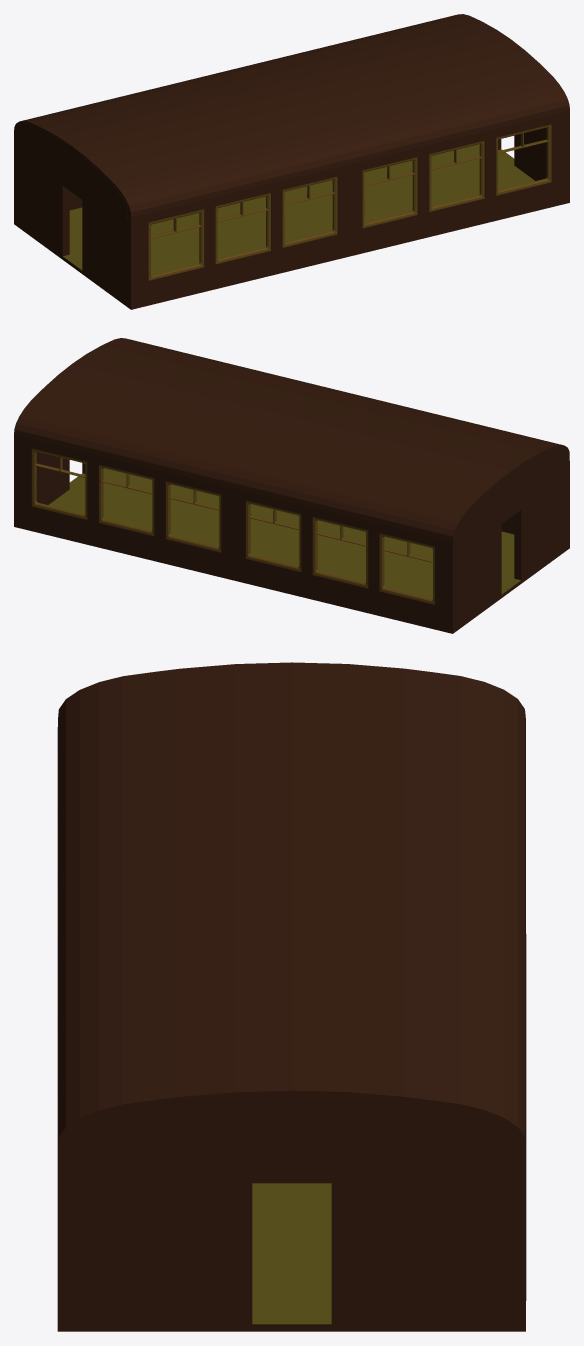
The model's file is Carriage.fbx.
3 renders of one model, top to bottom at view 1: azimuth 30°, elevation 25°; view 2: azimuth 150°, elevation 25°; view 3: azimuth 270°, elevation 25°, orthographic. The views are drawn at different scales.
Parts seen in each view (by area): view 1: Wagon; view 2: Wagon; view 3: Wagon.
Part boxes in pixels (bbox=[...]): Wagon: bbox=[14, 14, 569, 309]; Wagon: bbox=[14, 338, 569, 633]; Wagon: bbox=[57, 662, 526, 1331].
Bounding box in the file's own units: 6066 × 1591 × 2804.
